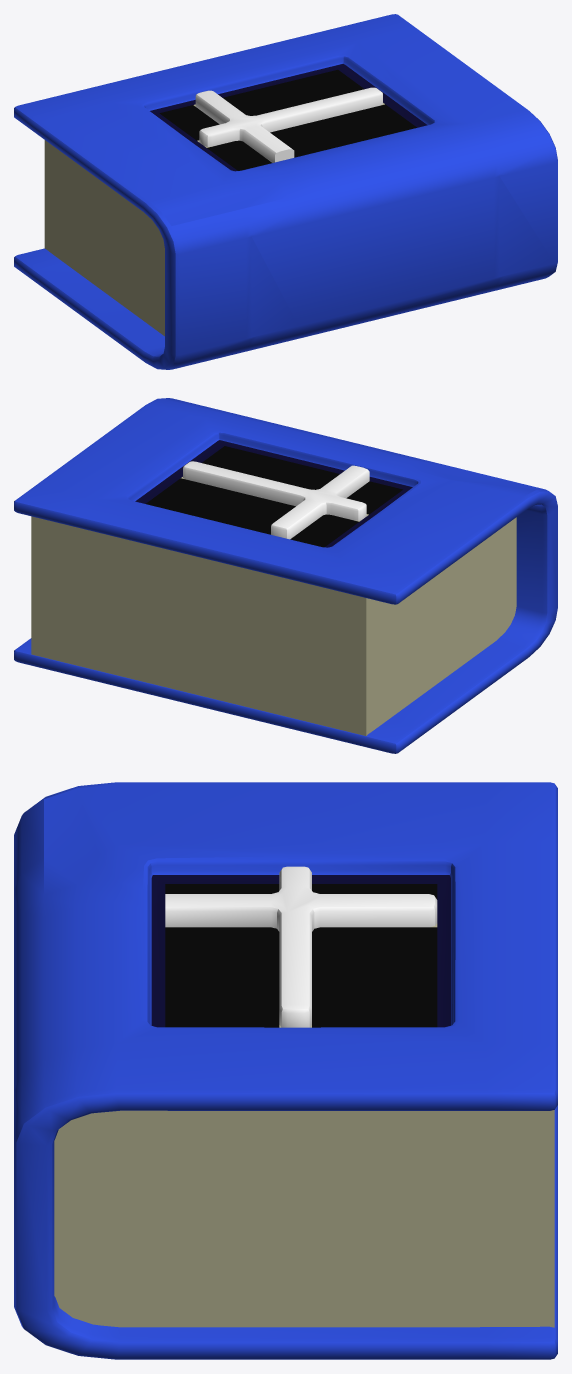
Rendered from Book.fbx.
3 views of the same model, one above another, from view 1: azimuth 30°, elevation 25°; view 2: azimuth 150°, elevation 25°; view 3: azimuth 270°, elevation 25° (orthographic). The views are drawn at different scales.
Visible parts, largest first — view 1: Cube, Cube.004, Cube.002, Cube.001, Cube.003; view 2: Cube.004, Cube, Cube.002, Cube.001, Cube.003; view 3: Cube, Cube.004, Cube.002, Cube.001, Cube.003.
Boxes of the visible parts, x1,y1,x2,y2 form: Cube: (14,14,557,369); Cube.004: (44,103,384,336); Cube.002: (159,69,416,170); Cube.001: (195,87,382,162); Cube.003: (150,64,427,171); Cube.004: (31,477,516,735); Cube: (14,398,557,753); Cube.002: (146,446,402,547); Cube.001: (183,461,369,539); Cube.003: (135,440,412,547); Cube: (14,782,557,1359); Cube.004: (54,923,554,1327); Cube.002: (165,884,437,1027); Cube.001: (165,866,437,1027); Cube.003: (151,875,450,1027).
Size of the model in its own units: 251 by 103 by 184.
